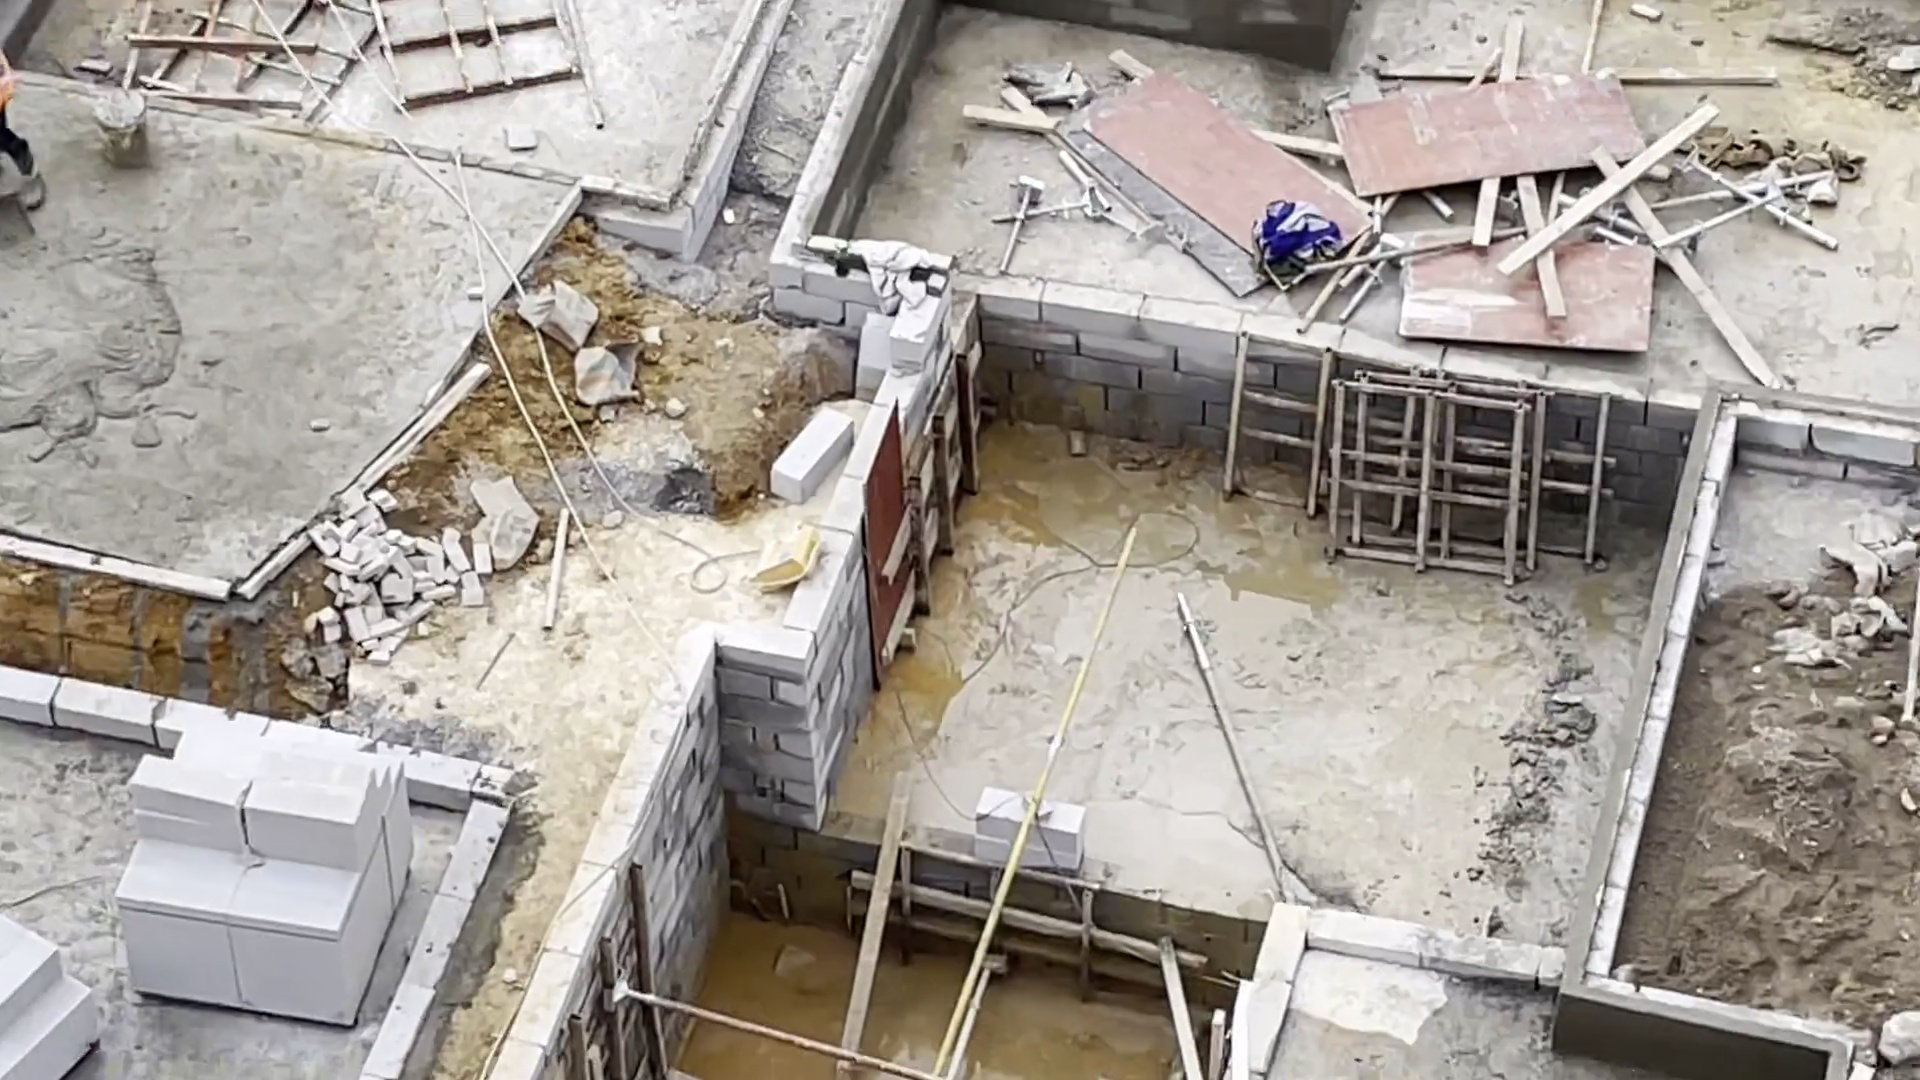brick: (113, 713, 415, 1030), (1, 897, 102, 1080)
